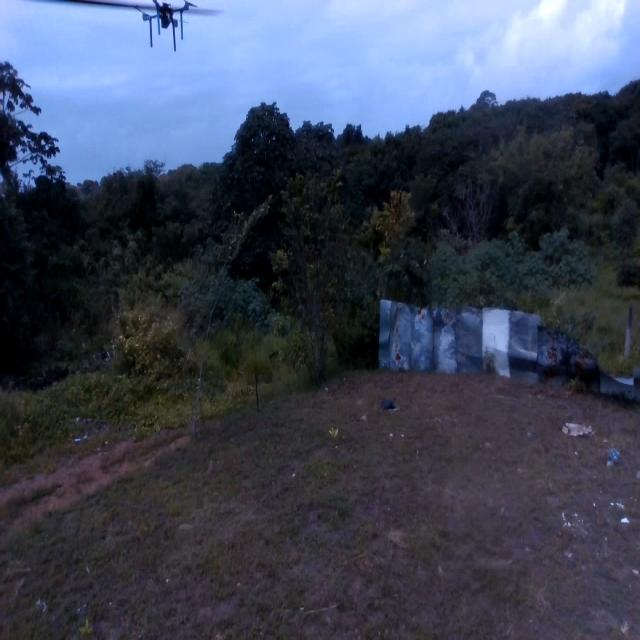-uav-: (135, 0, 204, 53)
